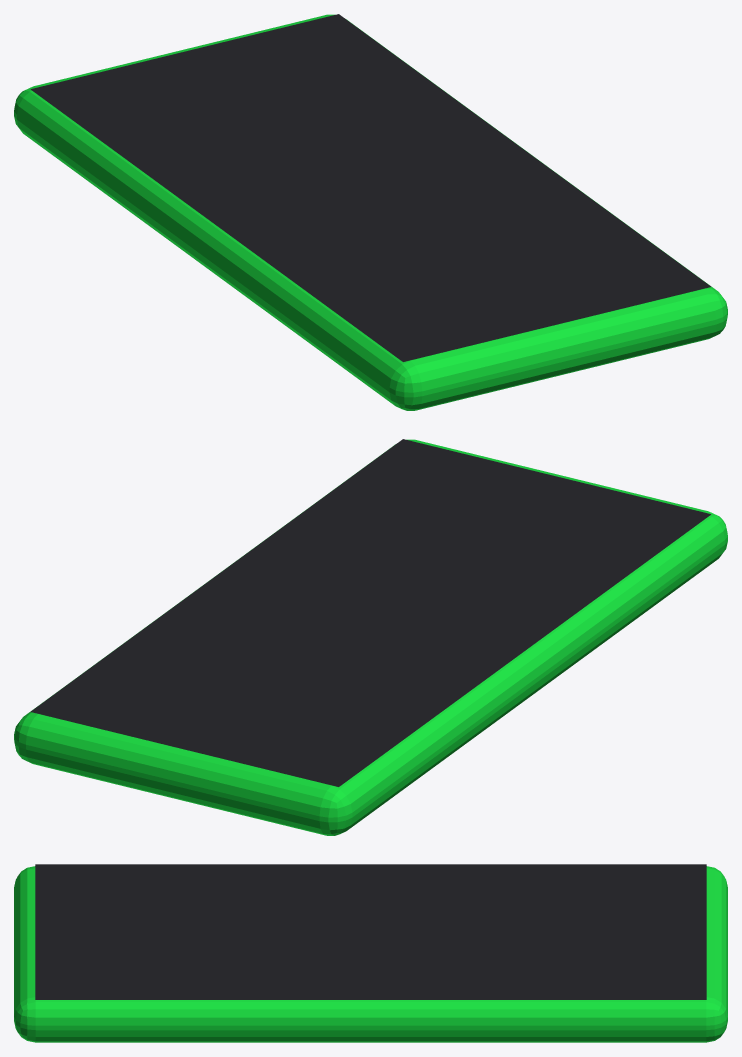
Rendered from Phone_927.glb.
3 renders of one model, top to bottom at view 1: azimuth 30°, elevation 25°; view 2: azimuth 150°, elevation 25°; view 3: azimuth 270°, elevation 25°, orthographic. The views are drawn at different scales.
Visible parts, largest first — view 1: Phone_Screen, Phone_Body; view 2: Phone_Screen, Phone_Body; view 3: Phone_Screen, Phone_Body.
Boxes of the visible parts, left/top/right/bottom form: Phone_Screen: left=31, top=14, right=711, bottom=361; Phone_Body: left=14, top=14, right=727, bottom=410; Phone_Screen: left=30, top=439, right=710, bottom=786; Phone_Body: left=14, top=439, right=727, bottom=835; Phone_Screen: left=35, top=864, right=706, bottom=999; Phone_Body: left=14, top=866, right=727, bottom=1042.
Bounding box in the file's own units: 0.0704 × 0.0098 × 0.1442.
